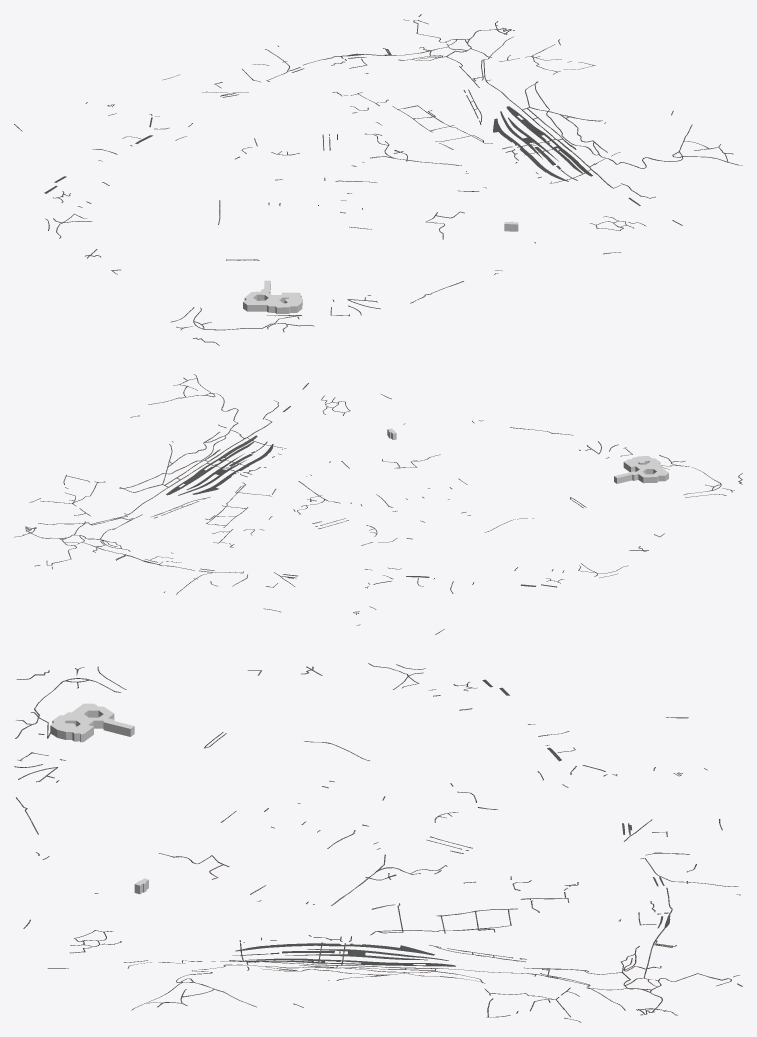
File: map_10.osm_areas_footway.fbx
The picture shows the model from 3 angles, top to bottom: view 1: azimuth 30°, elevation 25°; view 2: azimuth 150°, elevation 25°; view 3: azimuth 270°, elevation 25°; orthographic projection. The views are drawn at different scales.
Visible parts, largest first — view 1: Moorfoot Building, map_10.osm_areas_footway.003; view 2: Moorfoot Building, map_10.osm_areas_footway.003; view 3: Moorfoot Building, map_10.osm_areas_footway.003, map_10.osm_areas_footway, map_10.osm_areas_footway.012.
Boxes of the visible parts, box(x1,y1,x2,y2) form: Moorfoot Building: box(243, 280, 302, 313); map_10.osm_areas_footway.003: box(506, 106, 592, 176); Moorfoot Building: box(614, 456, 668, 483); map_10.osm_areas_footway.003: box(166, 435, 257, 495); Moorfoot Building: box(50, 703, 134, 742); map_10.osm_areas_footway.003: box(229, 958, 455, 966); map_10.osm_areas_footway: box(232, 949, 448, 960); map_10.osm_areas_footway.012: box(235, 943, 434, 955).
Bounding box in the file's own units: 142805 × 5101 × 125698.
